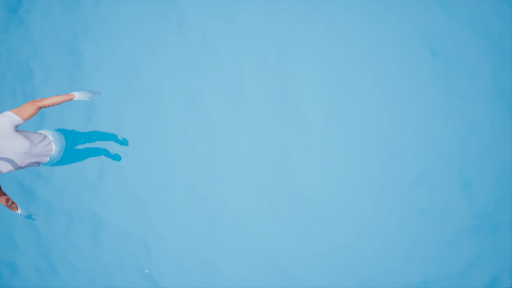person: (1, 92, 145, 216)
